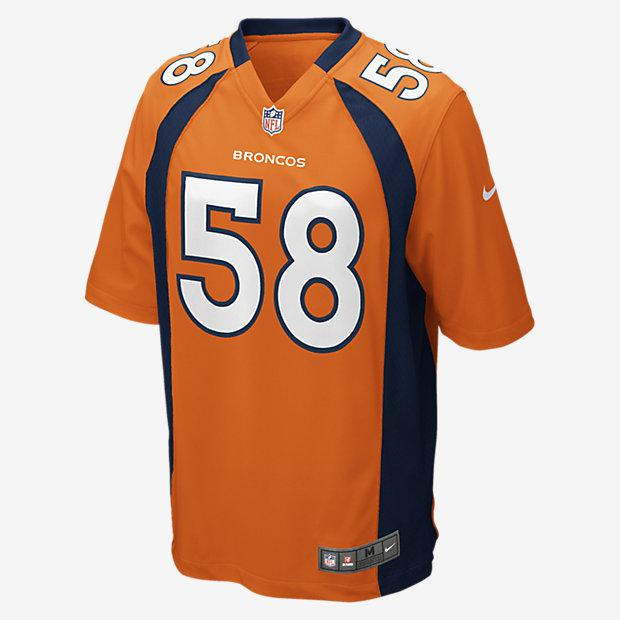teeshirt: (58, 16, 582, 610)
